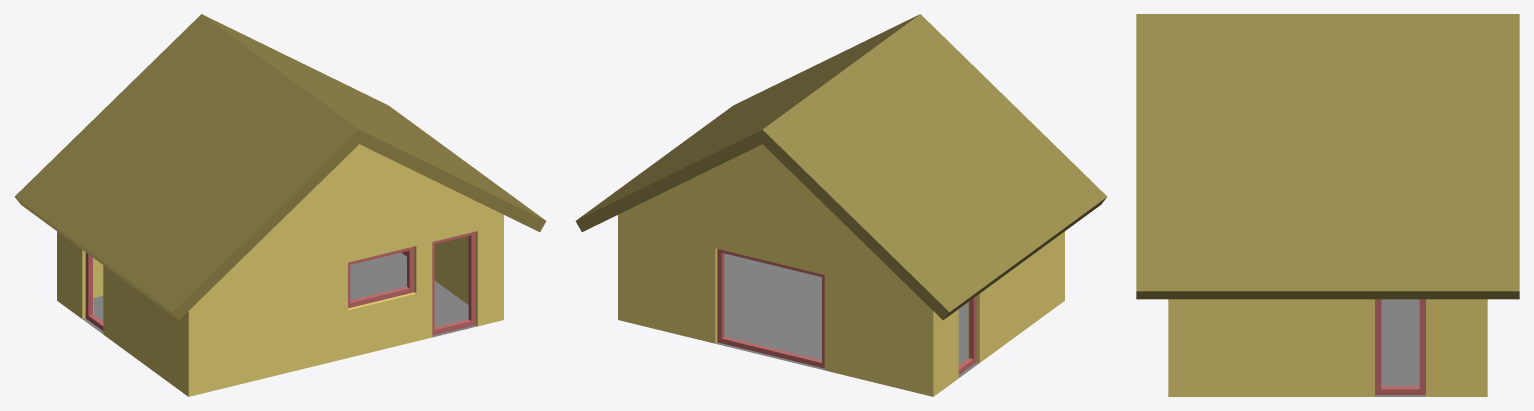
File: result.glb
The picture shows the model from 3 angles, left to right: view 1: azimuth 30°, elevation 25°; view 2: azimuth 150°, elevation 25°; view 3: azimuth 270°, elevation 25°; orthographic projection. The views are drawn at different scales.
Parts seen in each view (by area): view 1: 54b7f1df-9602-4537-8202-dfe35d97ed40__undefined (×2), 129c36b2-b6a3-4b0b-af62-cc3d22f7e4b1__undefined, 0b1ae3bc-f473-4ba2-9456-ff9ef73e7464__Plane_6, a741d454-f719-4150-8b66-6a38c0cd01bb__Box, 263e89d5-88e1-4ca3-aea1-7bdf1f4f7972__Box_3, 351c45c9-d35c-4510-bafc-58aece92b856__Box_12; view 2: 54b7f1df-9602-4537-8202-dfe35d97ed40__undefined (×2), 129c36b2-b6a3-4b0b-af62-cc3d22f7e4b1__undefined, 0b1ae3bc-f473-4ba2-9456-ff9ef73e7464__Plane_6, b01fe1d8-4fdc-4648-92e1-a67bde662a43__Box_9, 351c45c9-d35c-4510-bafc-58aece92b856__Box_12; view 3: 54b7f1df-9602-4537-8202-dfe35d97ed40__undefined, 129c36b2-b6a3-4b0b-af62-cc3d22f7e4b1__undefined, 0b1ae3bc-f473-4ba2-9456-ff9ef73e7464__Plane_6, 0c0cd42e-ee66-44ac-a284-27e5a19af0fb__Box_15.
Boxes of the visible parts, x1,y1,x2,y2 form: 54b7f1df-9602-4537-8202-dfe35d97ed40__undefined (×2): (14,14,546,320); 129c36b2-b6a3-4b0b-af62-cc3d22f7e4b1__undefined: (57,144,503,396); 0b1ae3bc-f473-4ba2-9456-ff9ef73e7464__Plane_6: (82,252,477,337); a741d454-f719-4150-8b66-6a38c0cd01bb__Box: (432,231,475,335); 263e89d5-88e1-4ca3-aea1-7bdf1f4f7972__Box_3: (348,246,414,308); 351c45c9-d35c-4510-bafc-58aece92b856__Box_12: (85,252,103,330); 54b7f1df-9602-4537-8202-dfe35d97ed40__undefined (×2): (575,14,1107,320); 129c36b2-b6a3-4b0b-af62-cc3d22f7e4b1__undefined: (618,144,1064,396); 0b1ae3bc-f473-4ba2-9456-ff9ef73e7464__Plane_6: (715,253,979,377); b01fe1d8-4fdc-4648-92e1-a67bde662a43__Box_9: (717,249,824,368); 351c45c9-d35c-4510-bafc-58aece92b856__Box_12: (958,296,976,374); 54b7f1df-9602-4537-8202-dfe35d97ed40__undefined: (1136,14,1519,299); 129c36b2-b6a3-4b0b-af62-cc3d22f7e4b1__undefined: (1168,299,1487,396); 0b1ae3bc-f473-4ba2-9456-ff9ef73e7464__Plane_6: (1375,299,1425,396); 0c0cd42e-ee66-44ac-a284-27e5a19af0fb__Box_15: (1375,299,1425,394).
Size of the model in its own units: 821 by 500 by 600.
